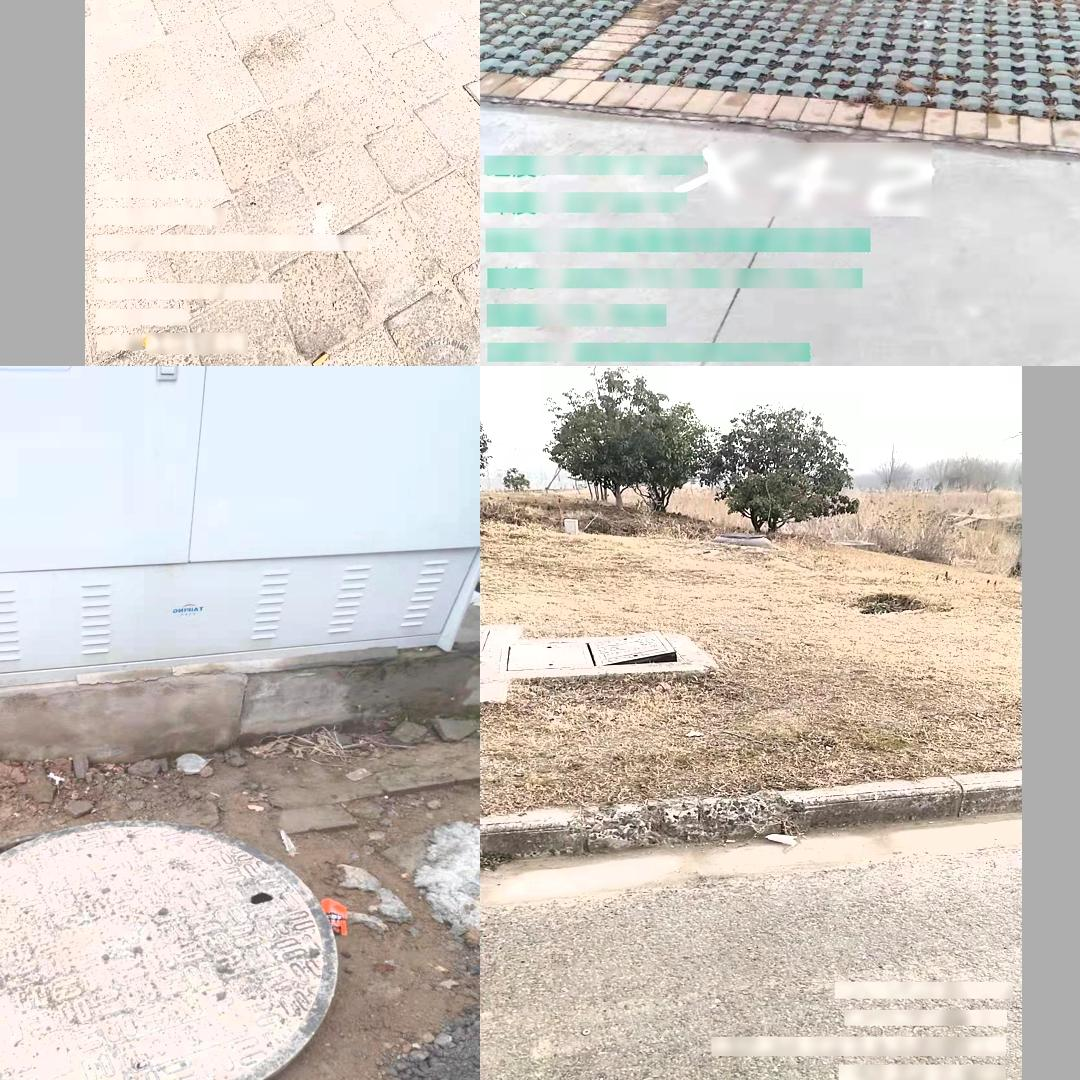uncovered: (0, 812, 341, 1080), (506, 627, 690, 673)
